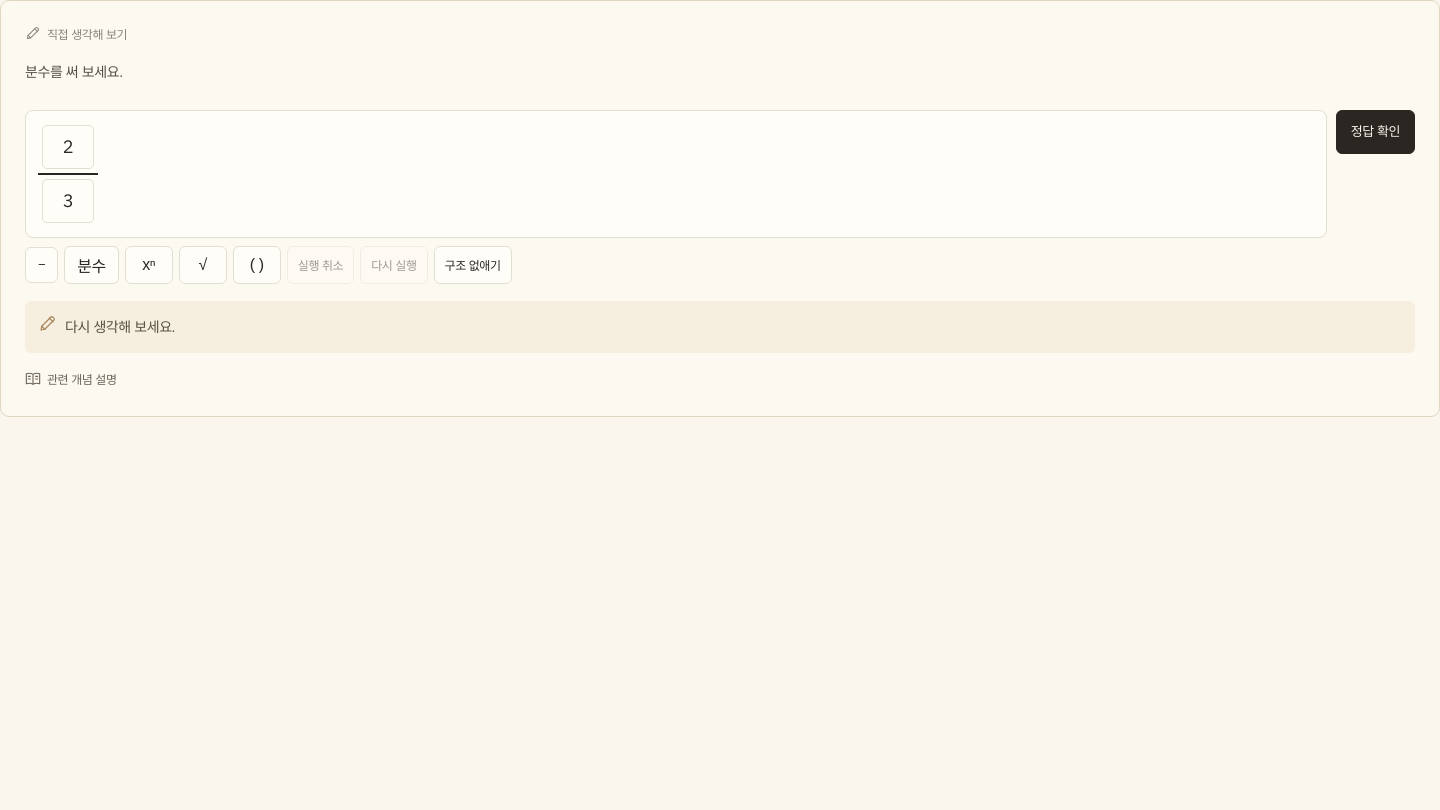
Test: concept help beside an answer › retries failed reads and explicitly handles missing explanations
The image size is (1440, 810).
Click the button "관련 개념 설명". click: (71, 379)
box: [25,365,117,392]
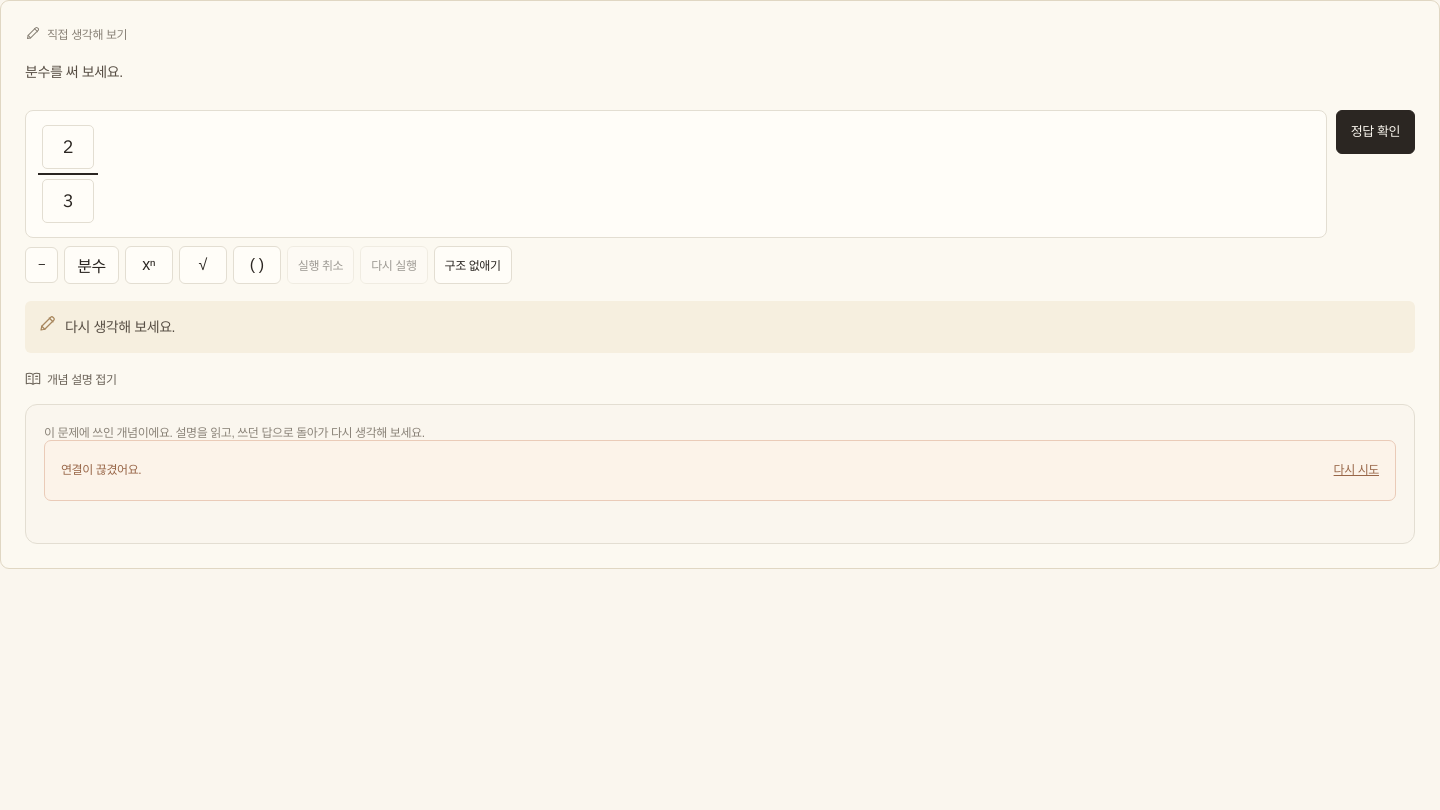
Check: the message "연결이 끊겼어요. 다시 시도" is shown, box [44,440,1396,501]
Click the button "다시 시도". click: (1356, 470)
box: [1334,455,1379,486]
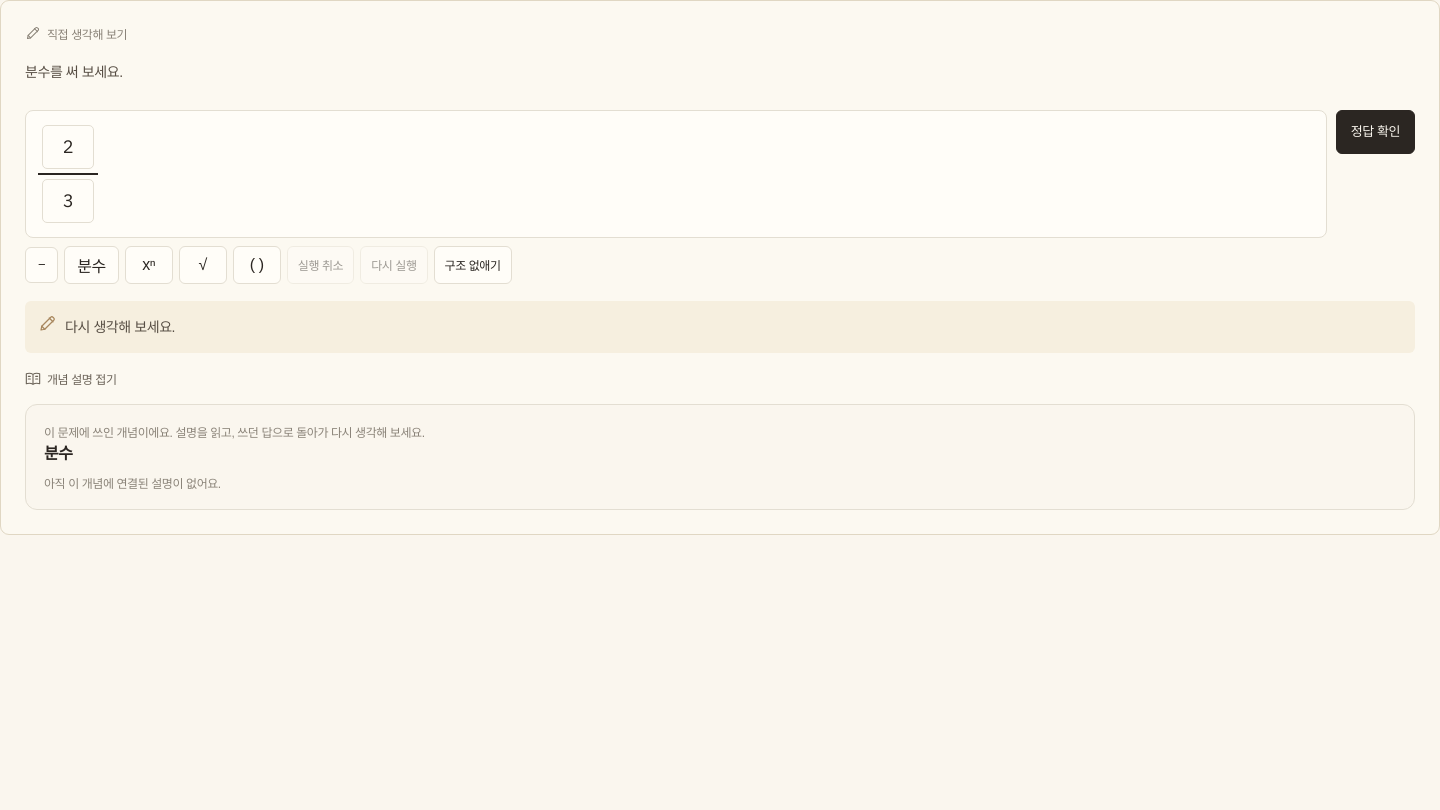
Check: the text "아직 이 개념에 연결된 설명이 없어요." is shown, box [44,477,221,491]
